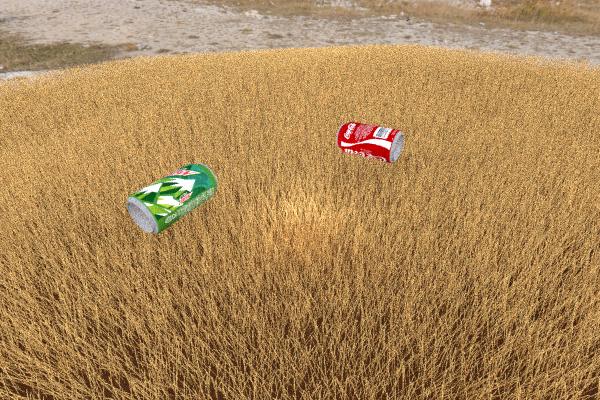bottle: (93, 114, 185, 150)
can: (126, 163, 217, 234), (336, 121, 403, 163)
